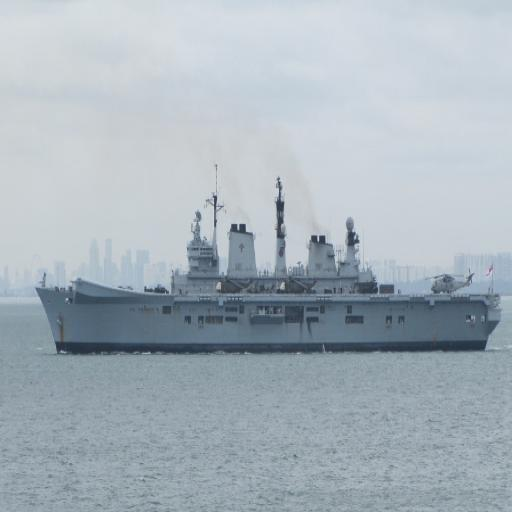Portanaves: (35, 155, 504, 358)
